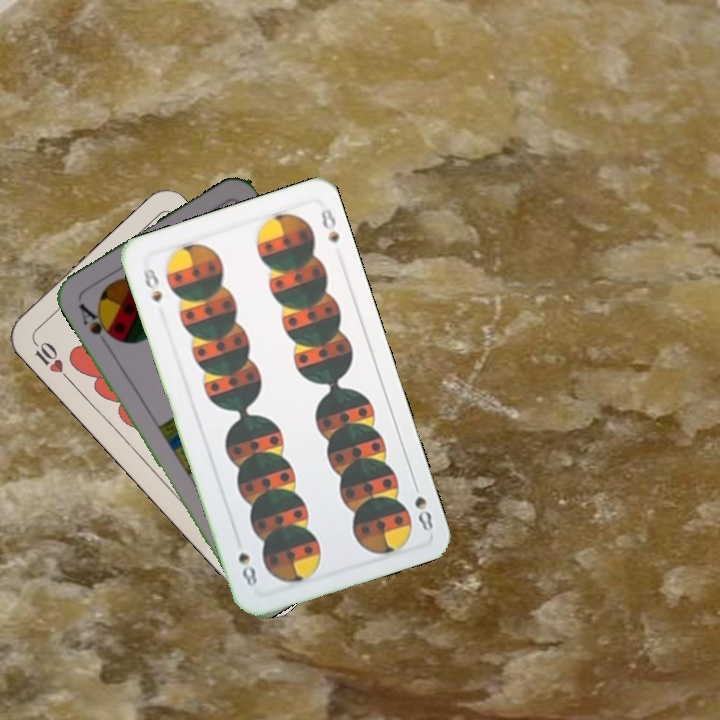H10: (29, 336, 73, 384)
S8: (408, 476, 436, 534), (139, 263, 165, 306)
SA: (73, 299, 118, 343)
